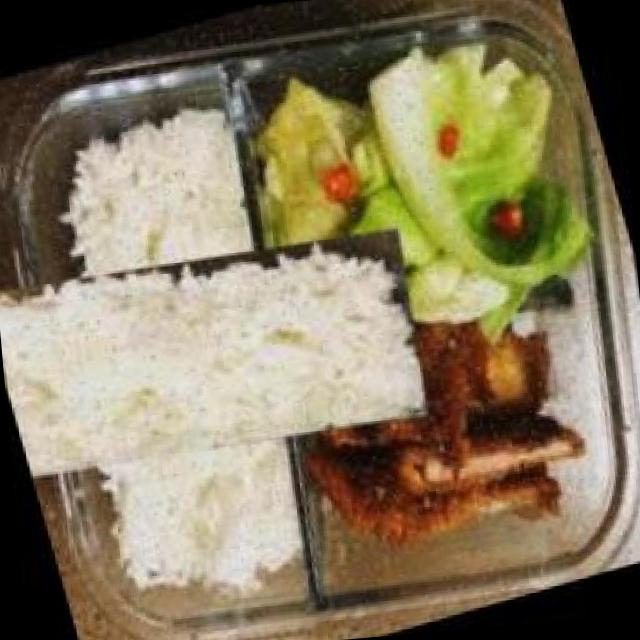rice: (0, 119, 413, 589)
